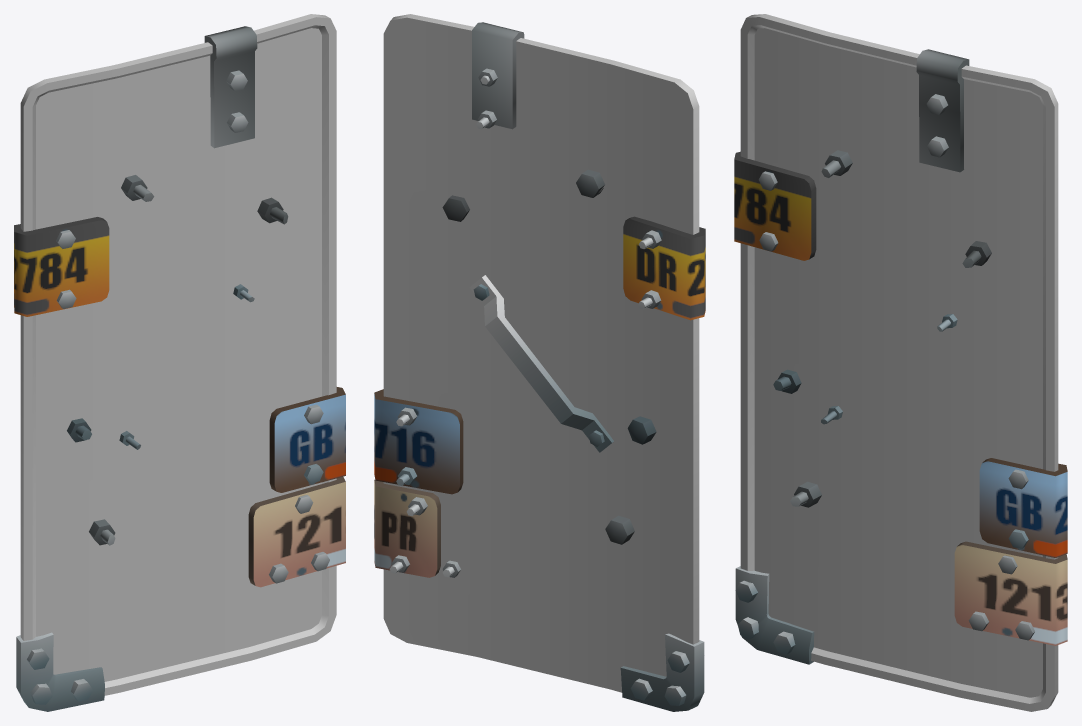
File: Signs_Shield.fbx
3 renders of one model, left to right at view 1: azimuth 30°, elevation 25°; view 2: azimuth 150°, elevation 25°; view 3: azimuth 330°, elevation 25°, orthographic.
Visible parts, largest first — view 1: Signs_Shield; view 2: Signs_Shield; view 3: Signs_Shield.
Boxes of the visible parts, x1,y1,x2,y2 form: Signs_Shield: (14,14,345,711); Signs_Shield: (374,14,705,711); Signs_Shield: (734,14,1067,711).
Bounding box in the file's own units: 78.15 × 15.85 × 144.
